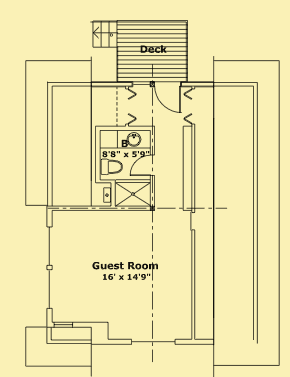door: (154, 81, 183, 115), (130, 155, 154, 178)
large_sink: (99, 155, 123, 176)
small_sink: (115, 129, 152, 149)
stairs: (113, 18, 190, 80), (92, 18, 117, 50)
